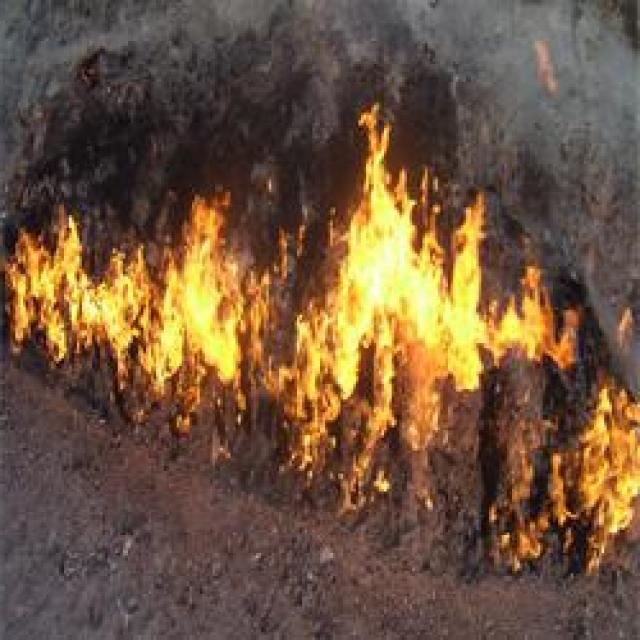fire: (337, 192, 483, 338), (0, 237, 179, 355), (157, 213, 247, 367), (581, 387, 640, 532)
